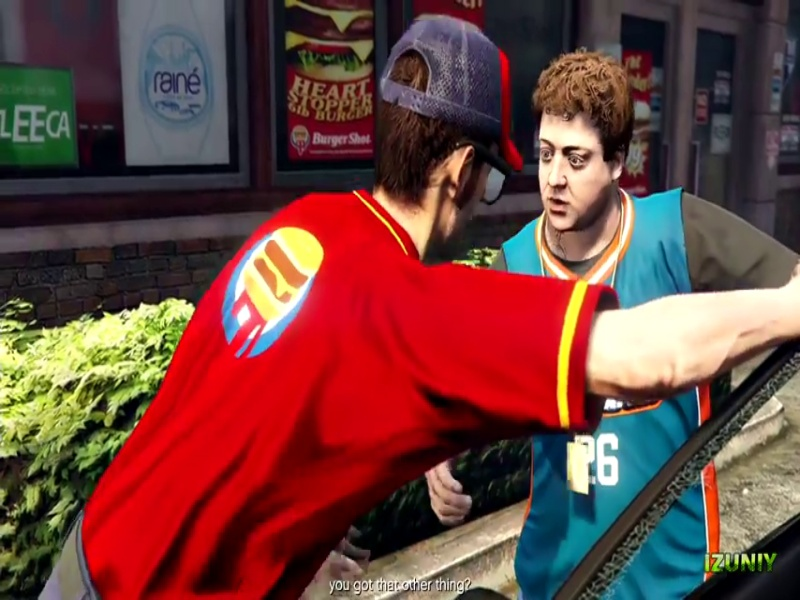human: (486, 49, 764, 306)
